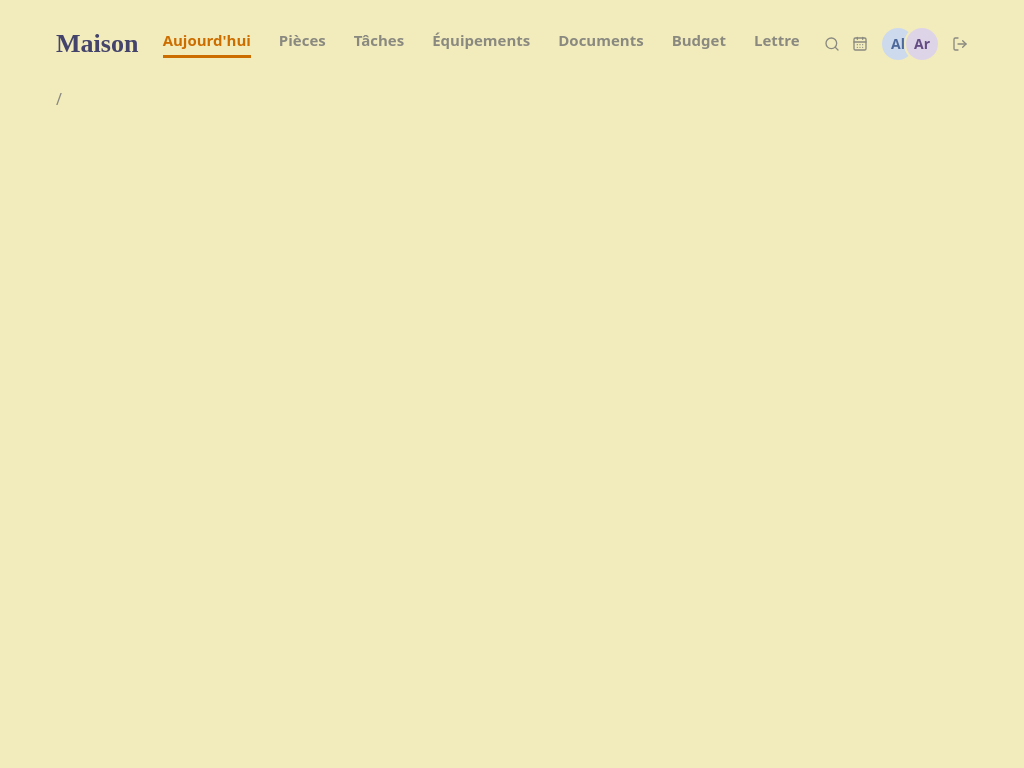
Test case: on trouve un équipement par sa marque, et une pièce par son nom
Click the button named "Chercher dans la maison" at {"x": 832, "y": 44}, box [824,36,840,52]
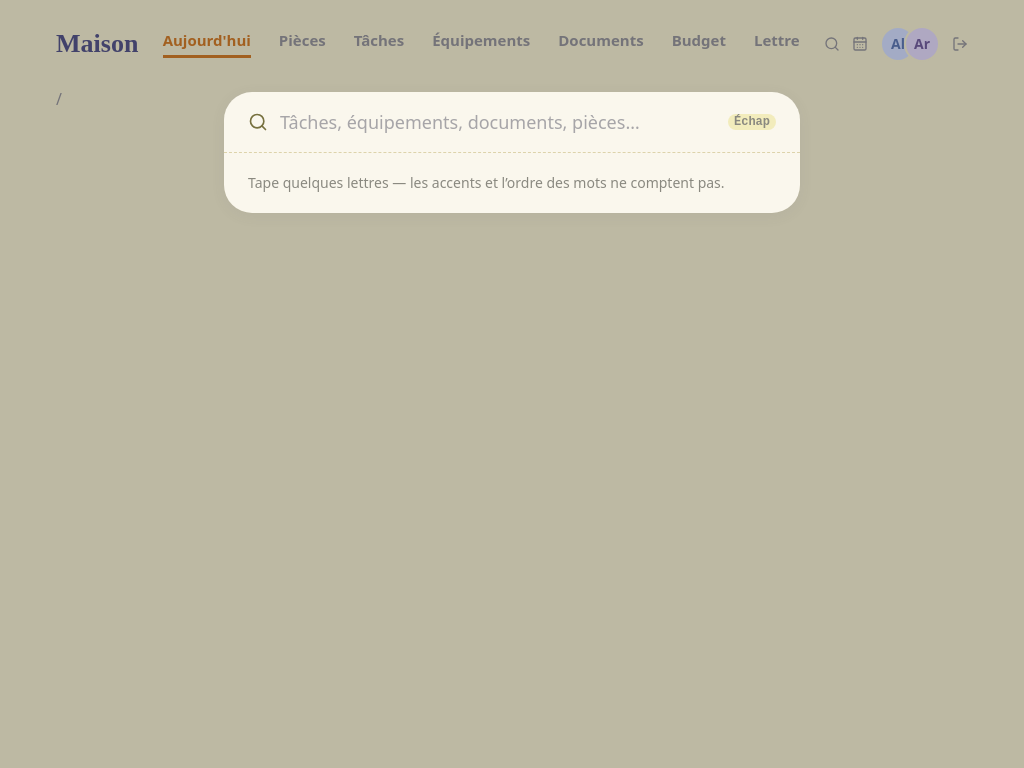
Type "jura" into the dropdown named "Chercher dans la maison" at {"x": 498, "y": 122}, box [280,108,716,136]
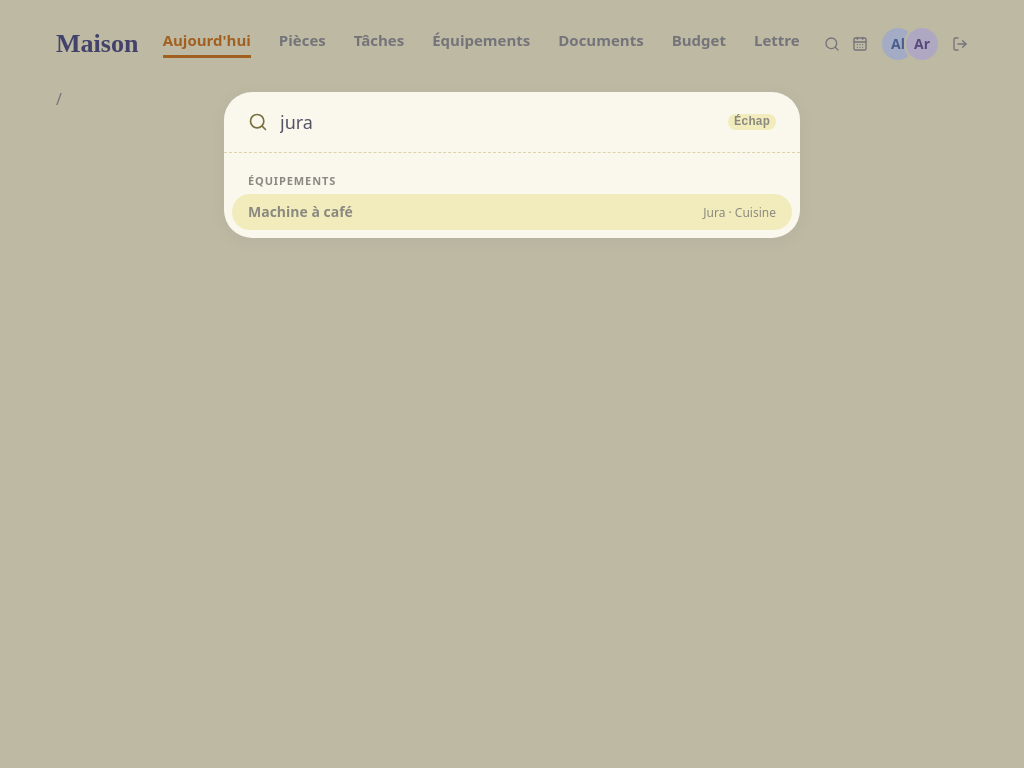
Click the option "Machine à café Jura · Cuisine" at {"x": 300, "y": 211}, box [232,194,792,230]
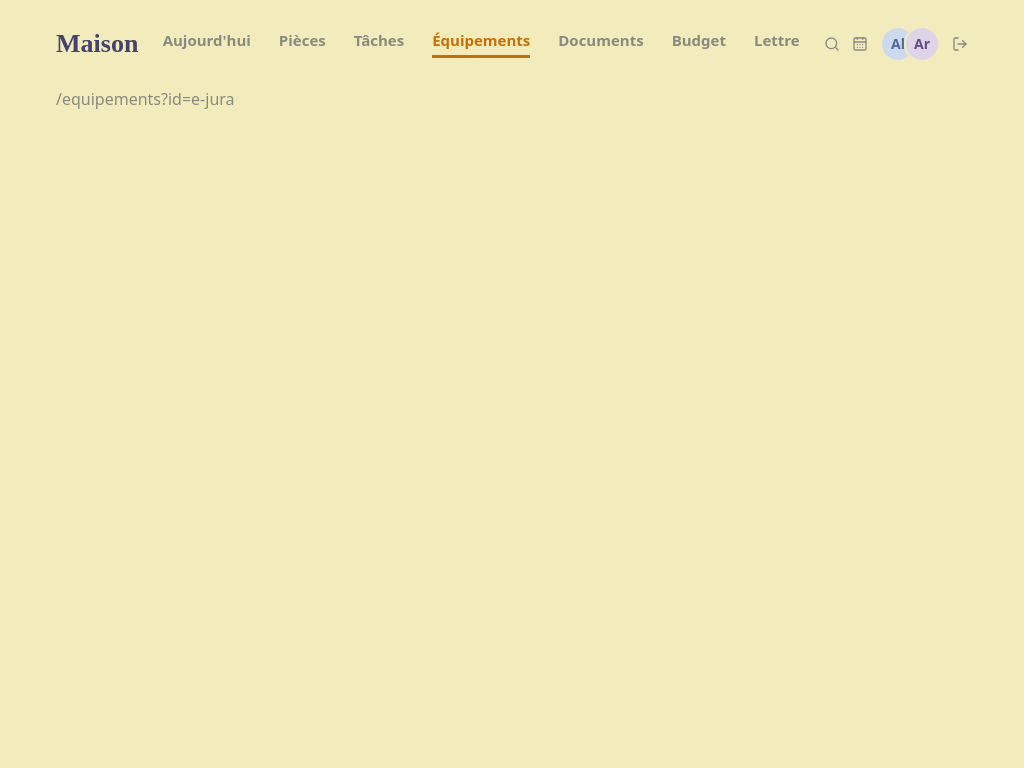
Now the text with test id "emplacement" reads "/equipements?id=e-jura", box [56,88,234,110]
Click the button named "Chercher dans la maison" at {"x": 832, "y": 44}, box [824,36,840,52]
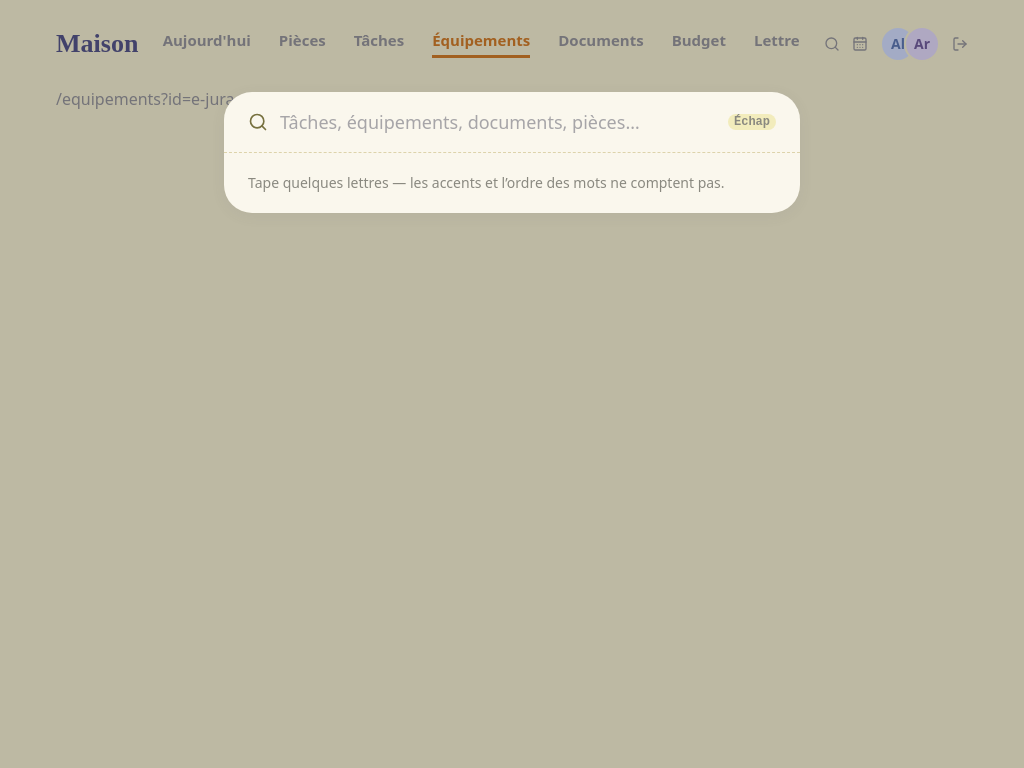
Type "cuisine" into the dropdown named "Chercher dans la maison" at {"x": 498, "y": 122}, box [280,108,716,136]
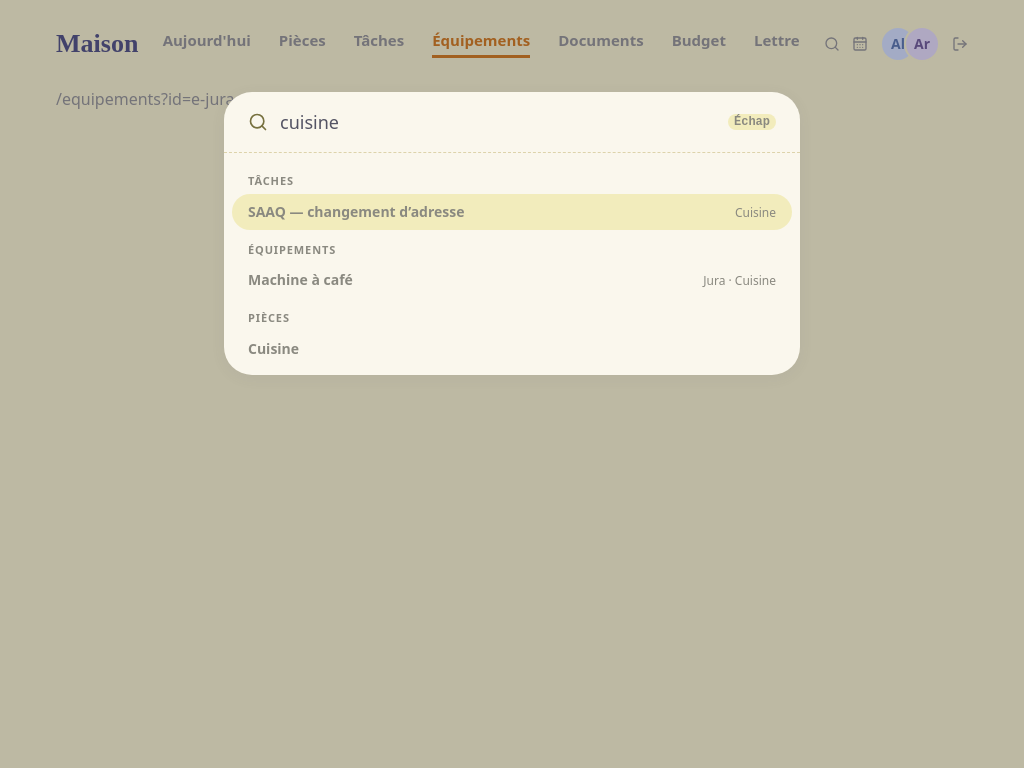
Now the option "Cuisine" is shown
Now the option "Machine à café Jura · Cuisine" is shown, box [248,270,776,289]
Click the option "Cuisine" at {"x": 274, "y": 348}, box [248,339,299,358]
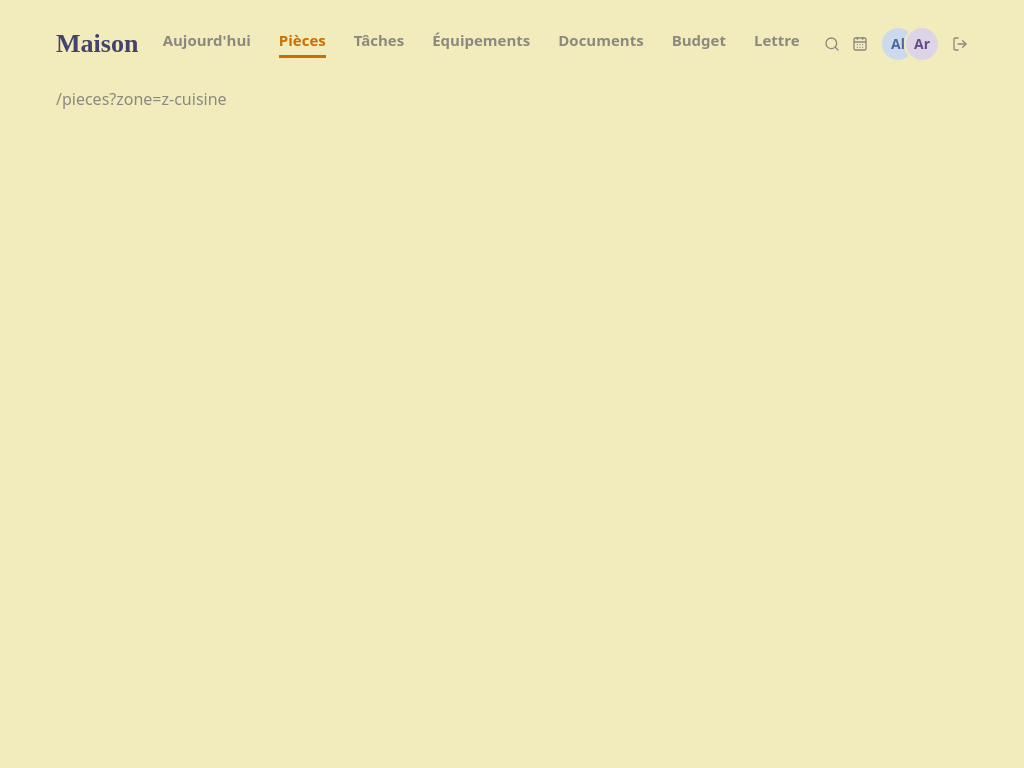
Now the text with test id "emplacement" reads "/pieces?zone=z-cuisine", box [56,88,227,110]
